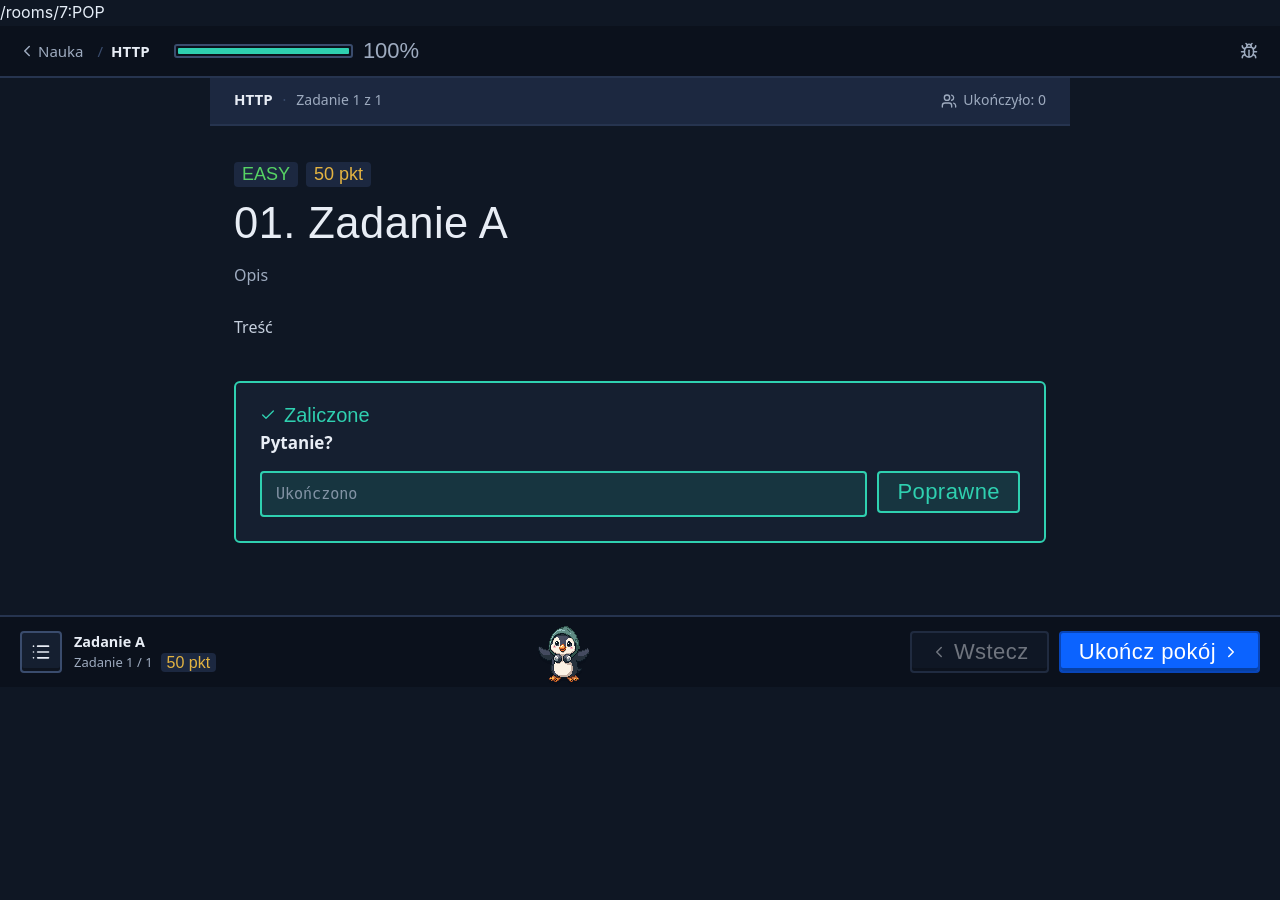
task room completion › lets players finish when all remaining tasks were completed before a deletion
The image size is (1280, 900).
What coordinates should you click on to do the following:
click the button "Ukończ pokój"
I would click on:
 (1159, 652)
Its box is [1059,631,1260,673].
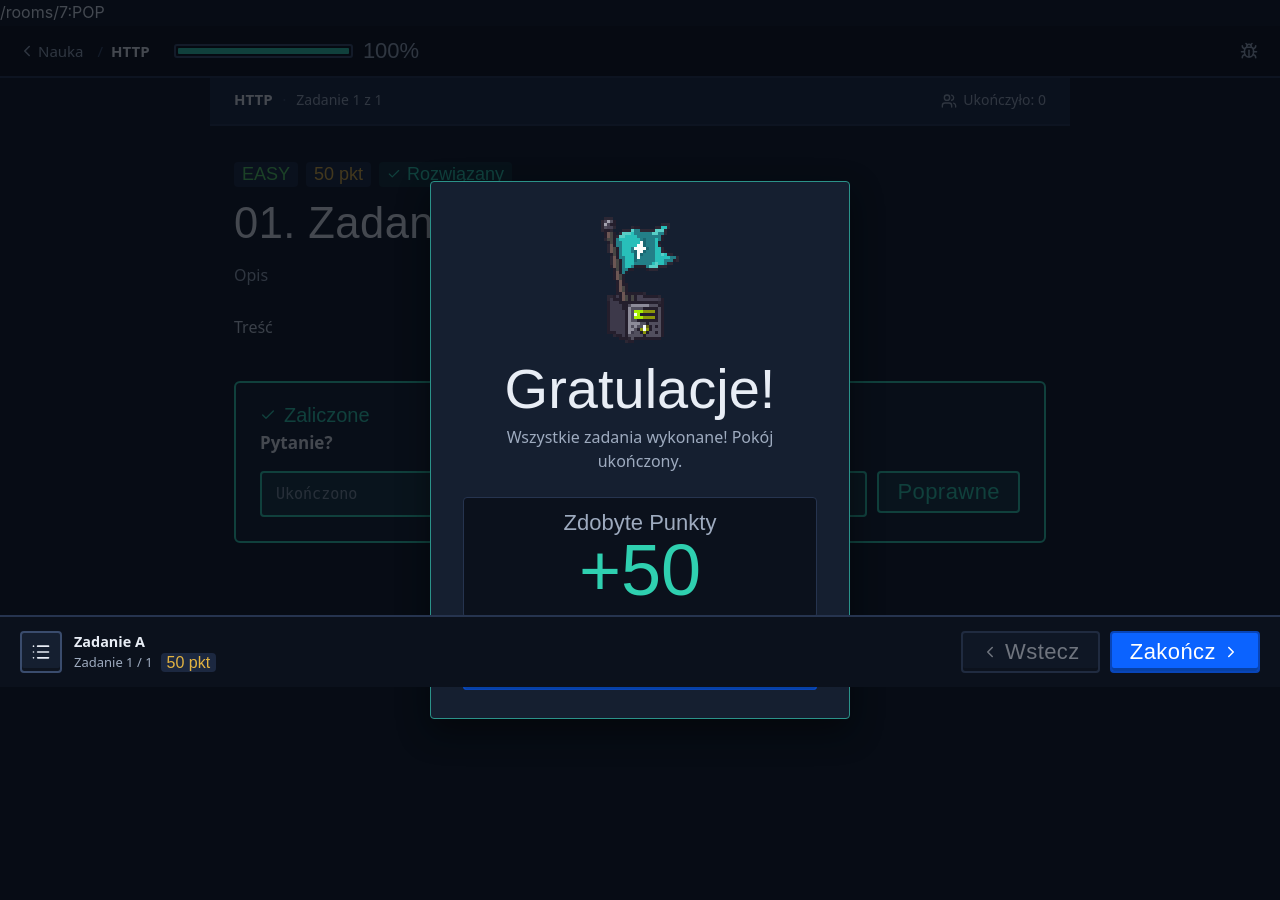
expect the text "Wszystkie zadania wykonane! Pokój ukończony." is shown: met, box [507,426,773,472]
expect the button "Ukończ pokój" is gone: met
